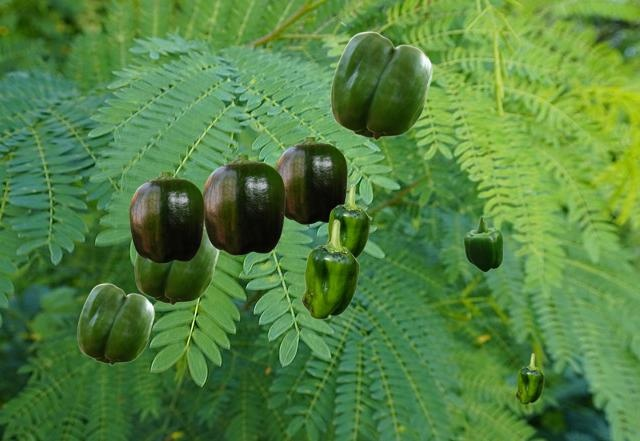bell_pepper: (330, 31, 431, 139), (202, 155, 284, 254), (129, 172, 203, 262), (134, 227, 218, 304), (77, 283, 153, 364), (275, 137, 346, 223), (301, 219, 358, 318), (326, 184, 369, 258), (463, 216, 502, 271), (515, 353, 543, 403)
